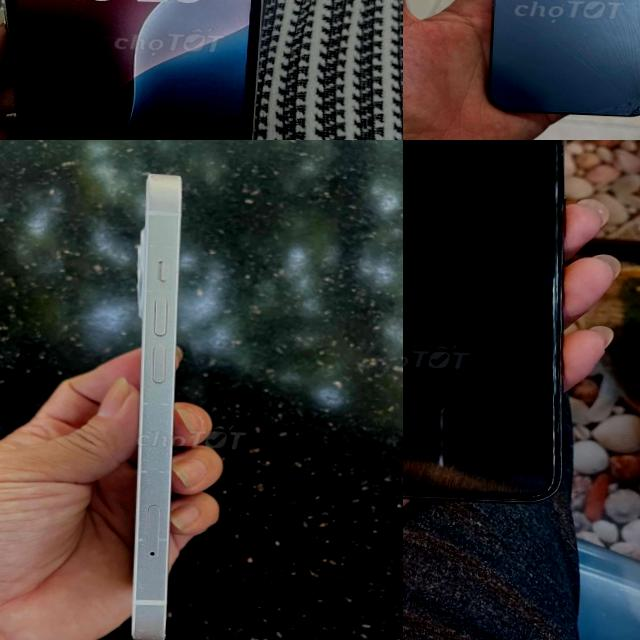gen_11: (403, 140, 581, 509)
gen_12_13: (112, 161, 192, 640), (481, 0, 640, 138)
gen_x_xs: (0, 0, 291, 140)
physical_damage: (490, 0, 640, 135)
scratch: (538, 310, 576, 497), (536, 140, 576, 262)
